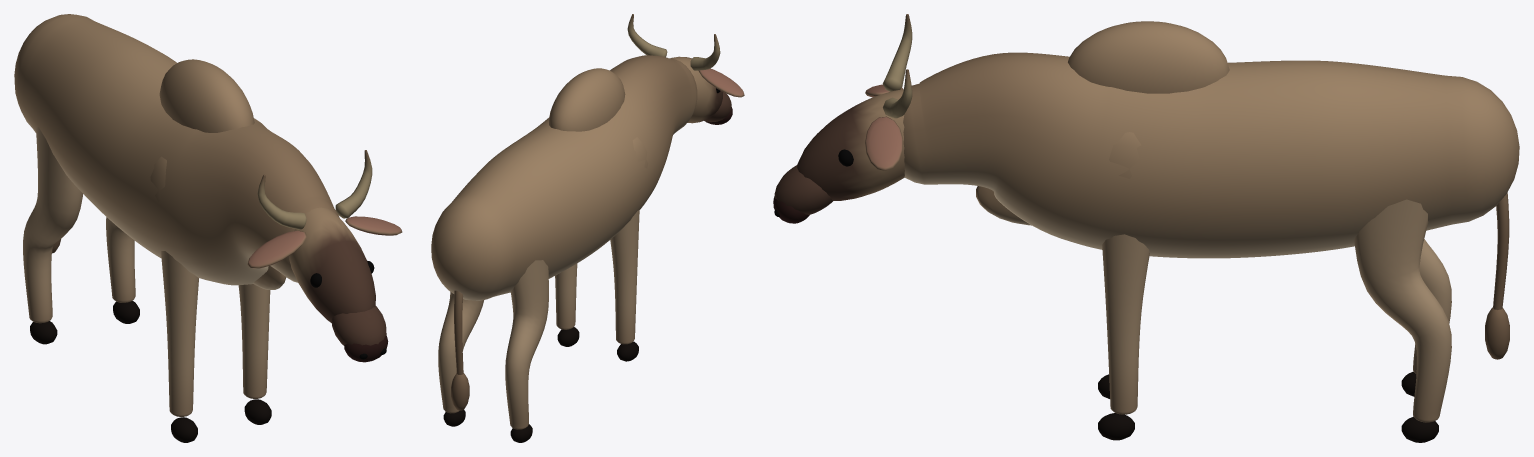
The model's file is cow.glb.
3 renders of one model, left to right at view 1: azimuth 30°, elevation 25°; view 2: azimuth 150°, elevation 25°; view 3: azimuth 270°, elevation 25°, orthographic. The views are drawn at different scales.
Parts seen in each view (by area): view 1: cow; view 2: cow; view 3: cow.
Part boxes in pixels (x1,y1,x2,y2): cow: (14, 14, 402, 442); cow: (431, 14, 744, 442); cow: (773, 14, 1519, 442).
Bounding box in the file's own units: 0.6616 × 1.47 × 2.52.
